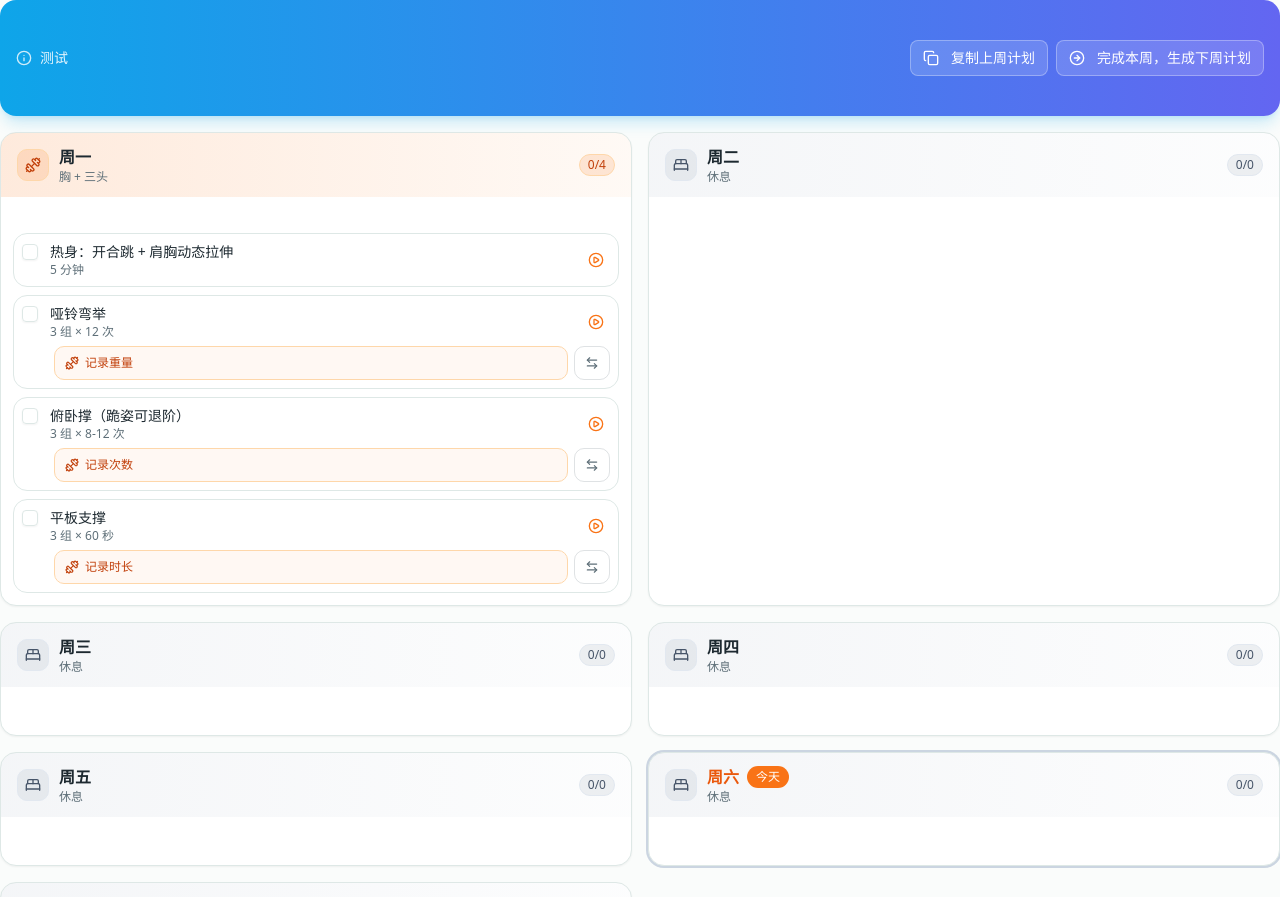
负重动作（哑铃弯举） › 完成校验：全为 0 提示"重量和次数"，只填重量提示"次数"，并留在弹窗
Click the button "记录重量": coordinates (109, 362) [54,346,568,380]
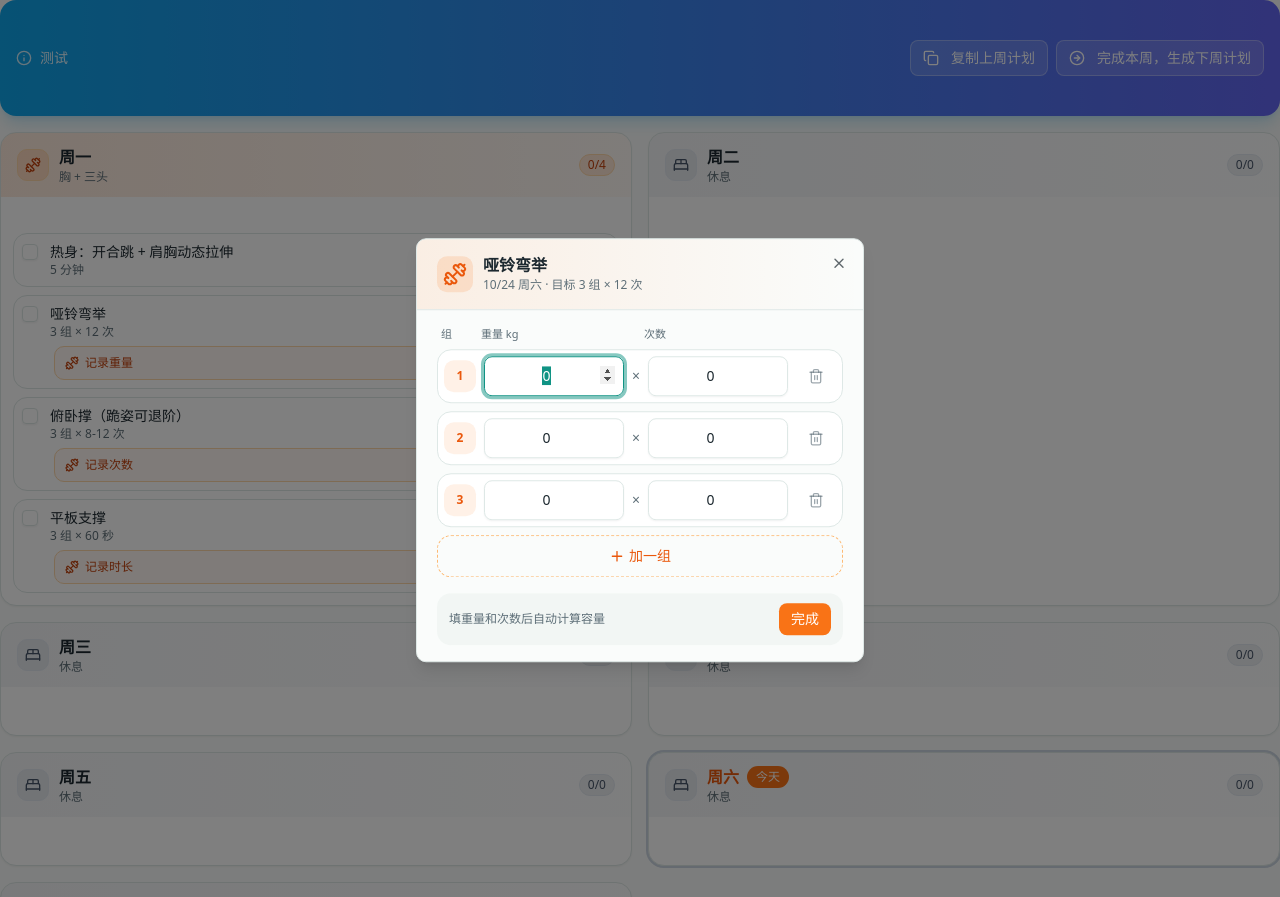
Click the button "完成": coordinates (805, 619) [779,603,831,635]
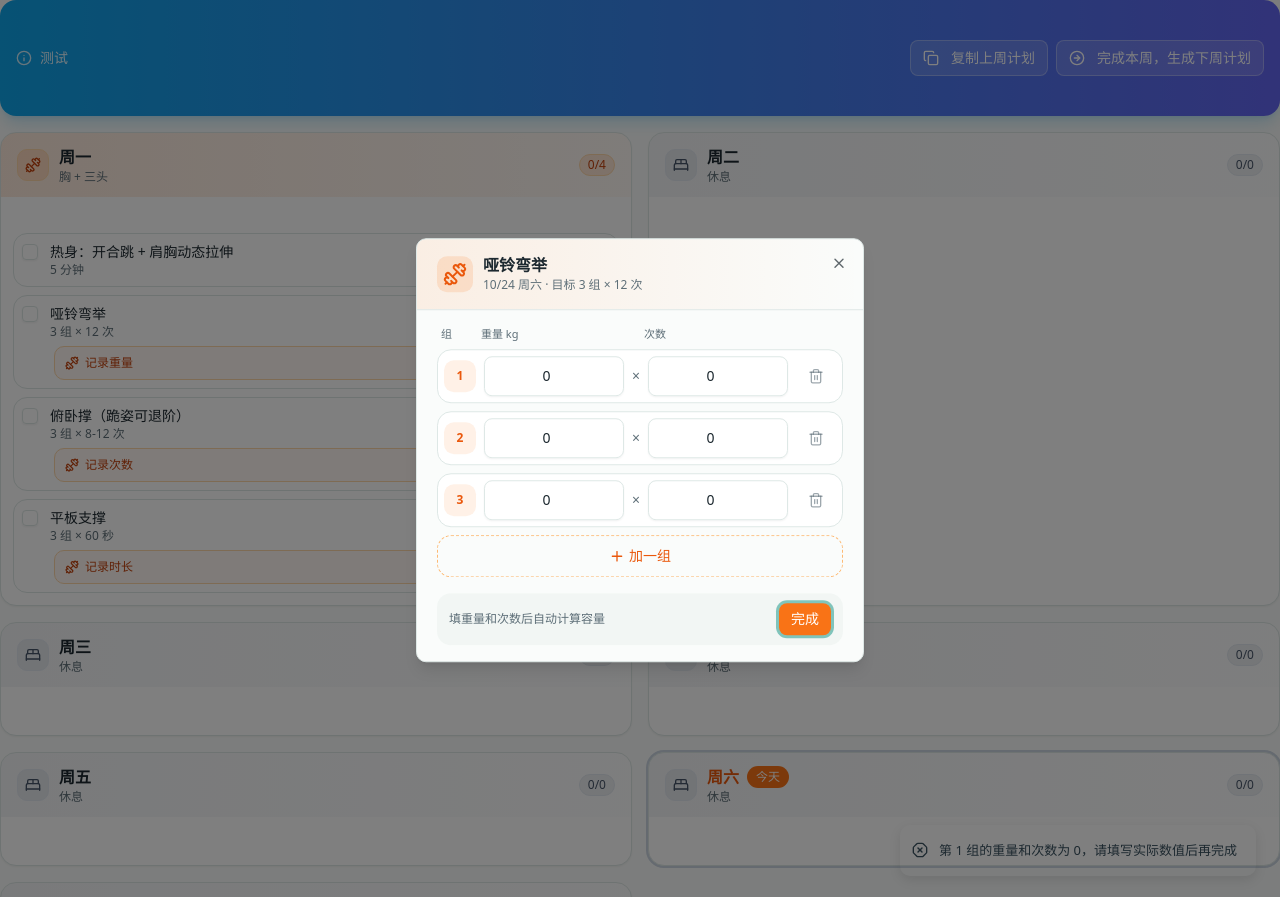
Result: the dialog is shown at [416,238,864,662]
Result: the text "第 1 组的重量和次数为 0，请填写实际数值后再完成" is shown at [939,840,1237,860]
In the number field named "第 1 组重量（kg）": coordinates (554, 376) [484,356,624,396], type "10"
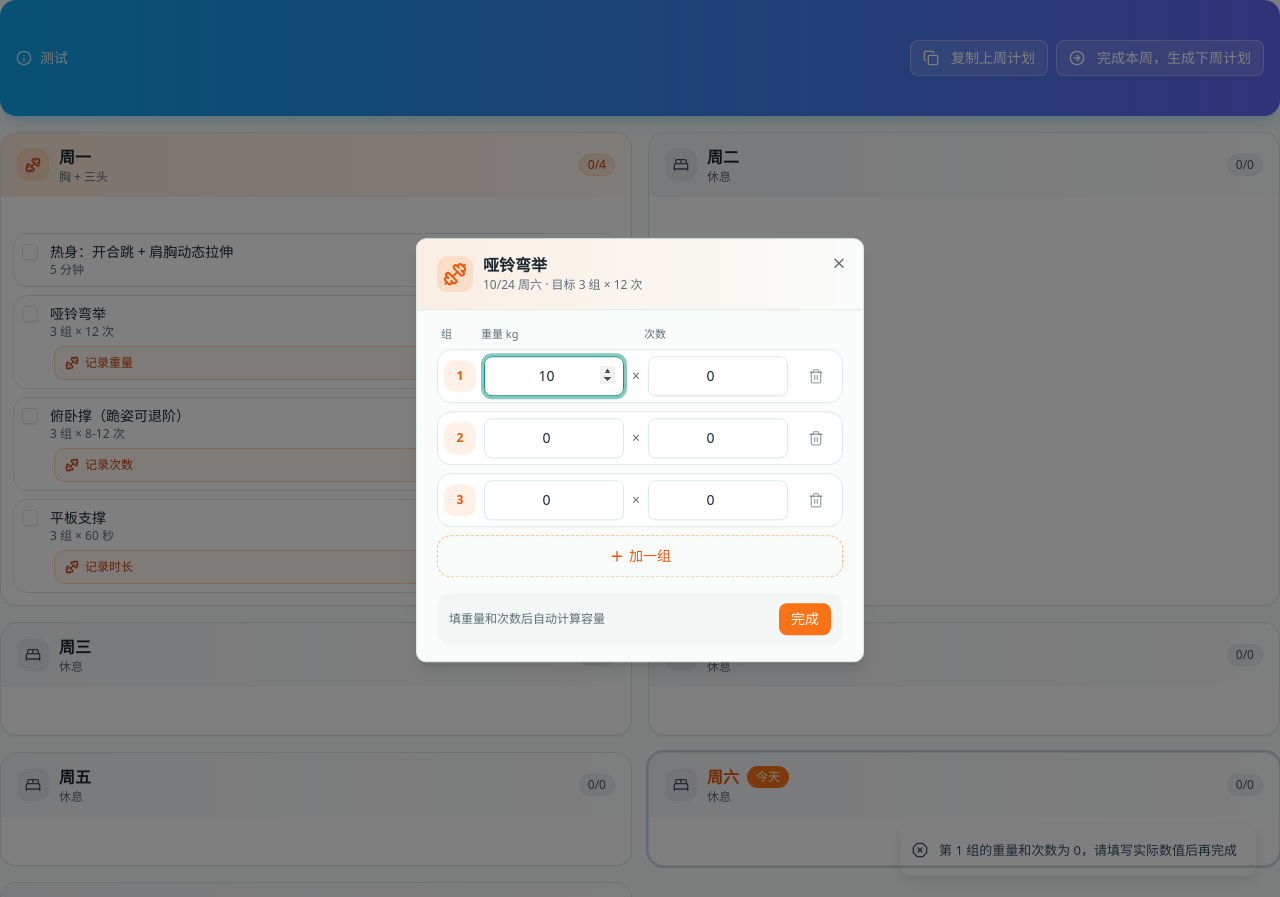
Click the button "完成": coordinates (805, 619) [779,603,831,635]
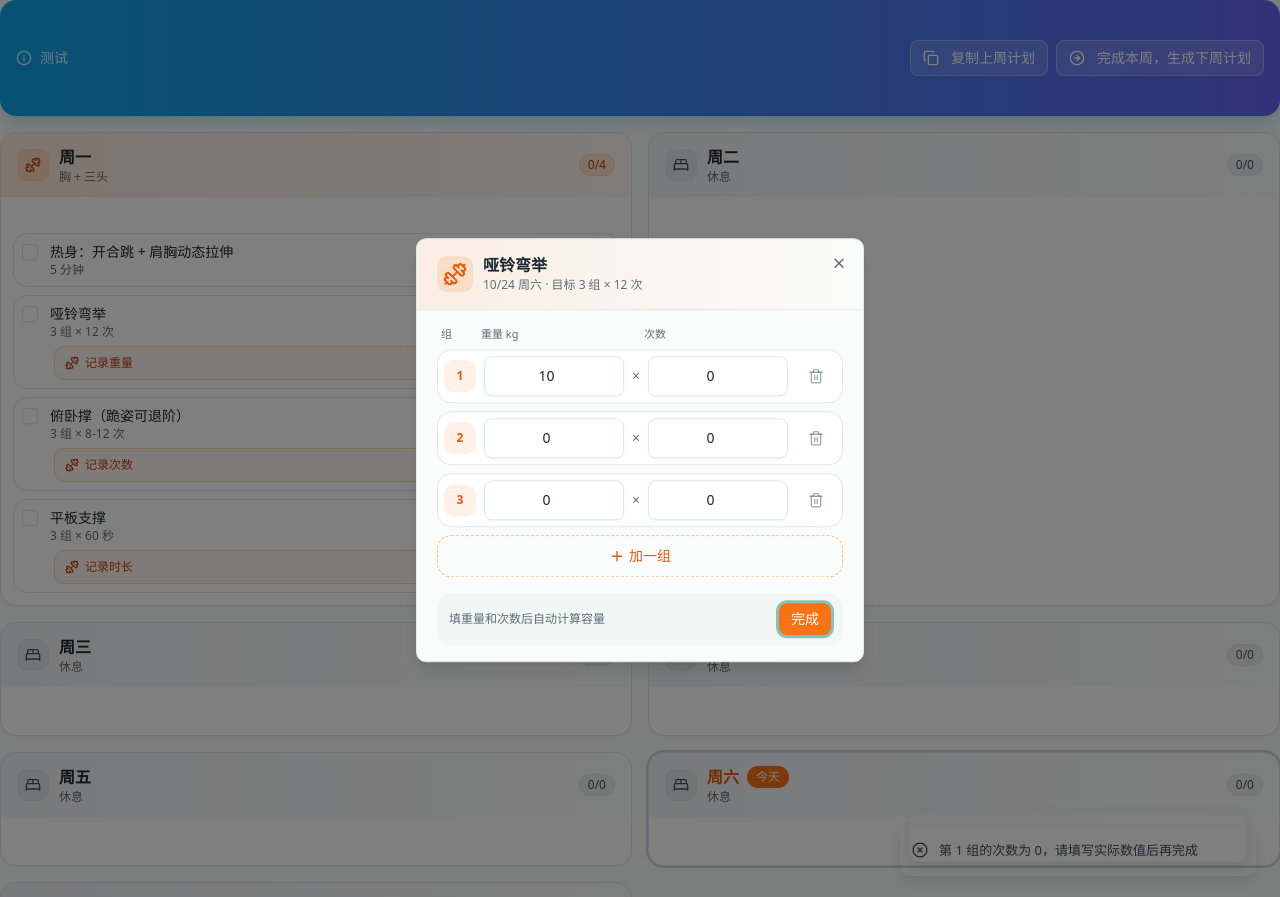
Result: the dialog is shown at [416,238,864,662]
Result: the text "第 1 组的次数为 0，请填写实际数值后再完成" is shown at [939,840,1198,860]
